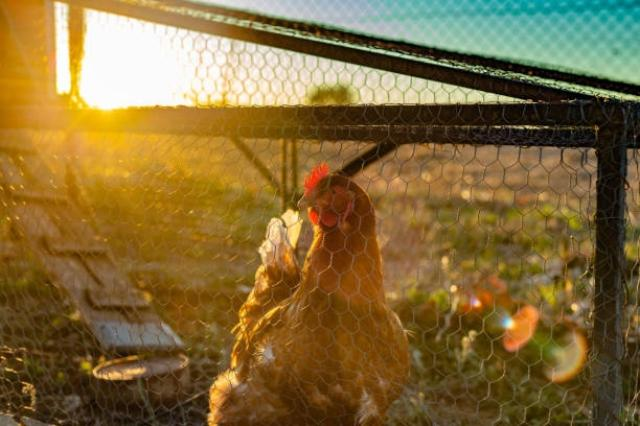Chicken: (208, 162, 409, 426)
